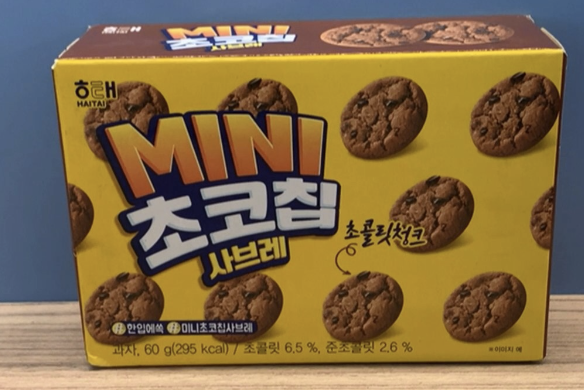cookies_1g-99g: (80, 72, 551, 355)
